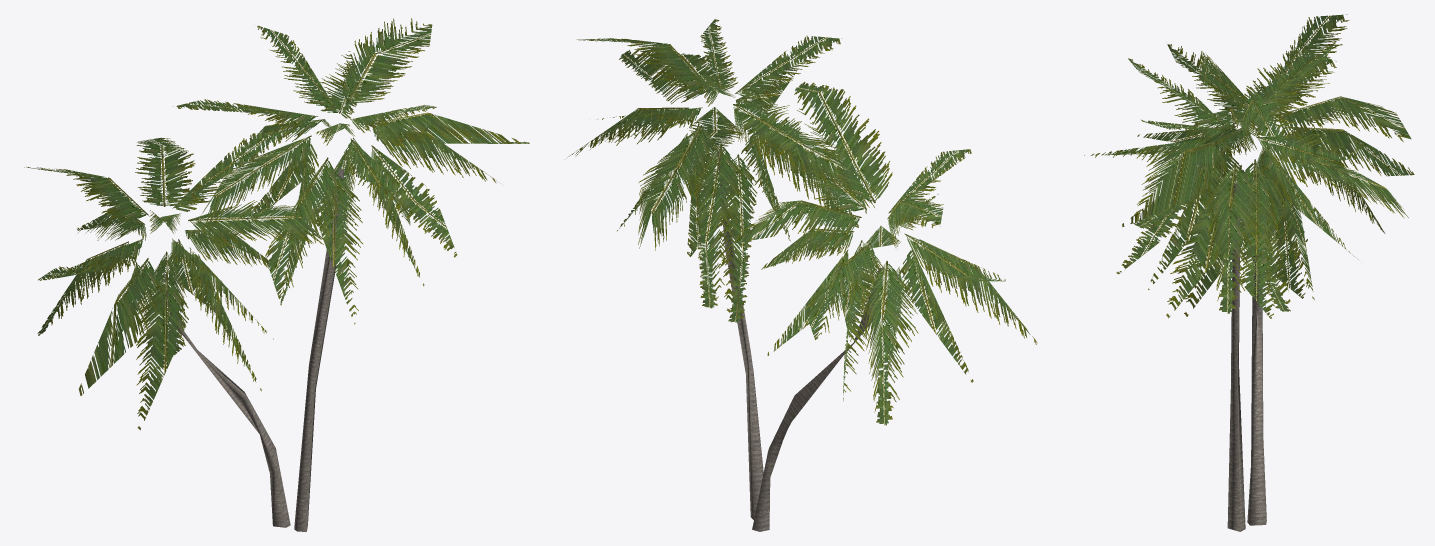
Rendered from bay-coconut-palm.lod2.glb.
3 views of the same model, side by side, from view 1: azimuth 30°, elevation 25°; view 2: azimuth 150°, elevation 25°; view 3: azimuth 270°, elevation 25° (orthographic). The views are drawn at different scales.
Visible parts, largest first — view 1: Tree_2_Tree_2Mat_0, Tree_0_Tree_0Mat_0; view 2: Tree_2_Tree_2Mat_0, Tree_0_Tree_0Mat_0; view 3: Tree_2_Tree_2Mat_0, Tree_0_Tree_0Mat_0.
Part boxes in pixels (bbox=[...]): Tree_2_Tree_2Mat_0: bbox=[24, 18, 529, 430]; Tree_0_Tree_0Mat_0: bbox=[163, 168, 344, 531]; Tree_2_Tree_2Mat_0: bbox=[567, 19, 1037, 425]; Tree_0_Tree_0Mat_0: bbox=[717, 149, 884, 531]; Tree_2_Tree_2Mat_0: bbox=[1084, 14, 1414, 318]; Tree_0_Tree_0Mat_0: bbox=[1227, 166, 1266, 531].
Bounding box in the file's own units: 7.51 × 7.45 × 4.76.
Materials: 2 (2 with a texture image).
